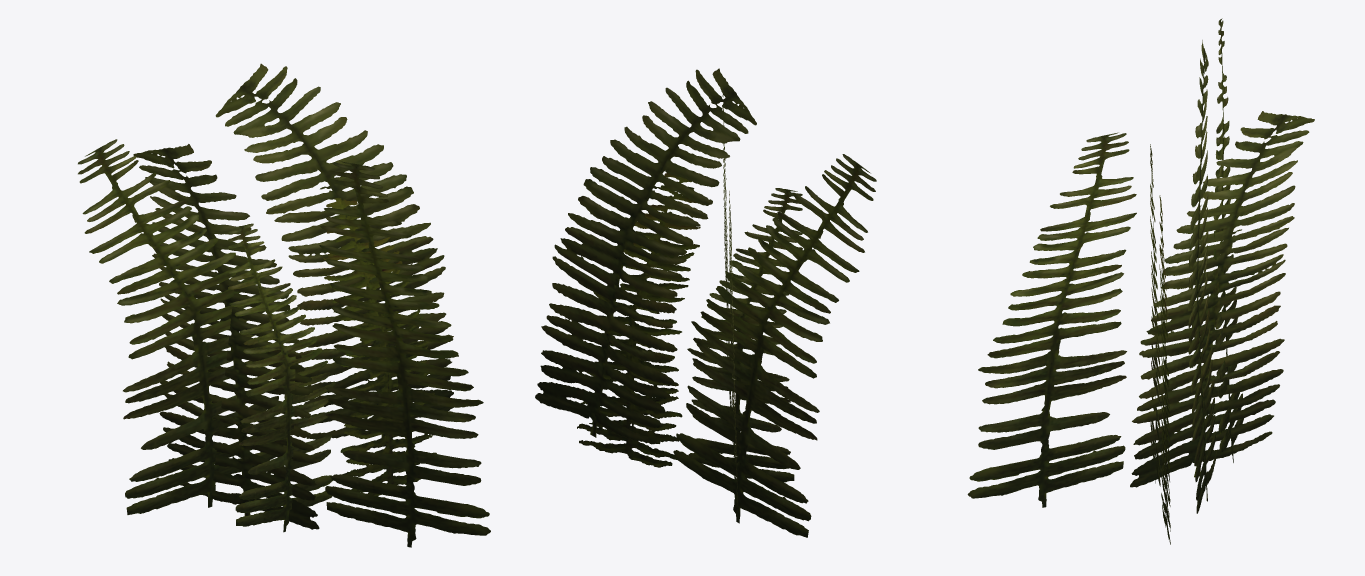
File: wm_灌木小灌木08.fbx
3 views of the same model, side by side, from view 1: azimuth 30°, elevation 25°; view 2: azimuth 150°, elevation 25°; view 3: azimuth 270°, elevation 25° (orthographic). The views are drawn at different scales.
Parts seen in each view (by area): view 1: wm_灌木小灌木08; view 2: wm_灌木小灌木08; view 3: wm_灌木小灌木08.
Part boxes in pixels (x1,y1,x2,y2): wm_灌木小灌木08: (78, 63, 490, 547); wm_灌木小灌木08: (535, 68, 876, 537); wm_灌木小灌木08: (967, 18, 1314, 544).
Size of the model in its own units: 130 by 143 by 102.
